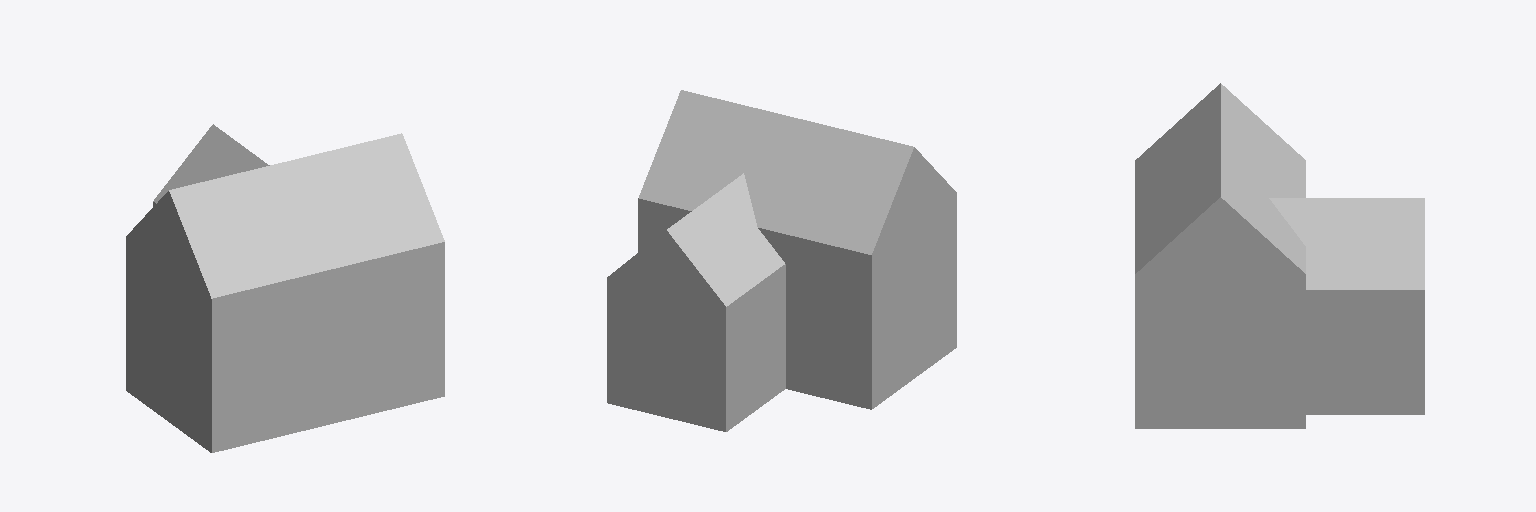
File: house2.obj
The picture shows the model from 3 angles: view 1: azimuth 30°, elevation 25°; view 2: azimuth 150°, elevation 25°; view 3: azimuth 270°, elevation 25°; orthographic projection.
Parts seen in each view (by area): view 1: house2_Cube.021; view 2: house2_Cube.021; view 3: house2_Cube.021.
Part boxes in pixels (bbox=[...]): house2_Cube.021: bbox=[126, 124, 444, 452]; house2_Cube.021: bbox=[607, 90, 956, 431]; house2_Cube.021: bbox=[1135, 83, 1424, 428].
Bounding box in the file's own units: 1.07 × 1.02 × 1.15.